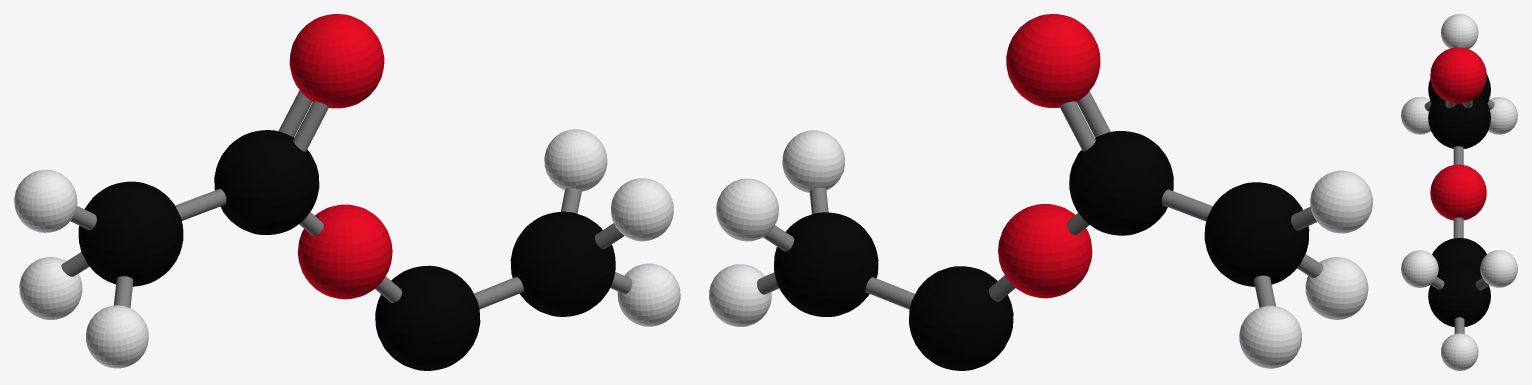
The model's file is CH3COOC2H5.glb.
3 renders of one model, left to right at view 1: azimuth 30°, elevation 25°; view 2: azimuth 150°, elevation 25°; view 3: azimuth 270°, elevation 25°, orthographic. The views are drawn at different scales.
Parts seen in each view (by area): view 1: углерод 1, углерод 1.001, Sphere.005, Sphere, кислород двойной.001, кислород двойной.002, Sphere.001, Sphere.006, Sphere.003, Sphere.007, Sphere.002, Sphere.008 (+5 smaller); view 2: углерод 1, углерод 1.001, Sphere.005, Sphere, кислород двойной.001, кислород двойной.002, Sphere.003, Sphere.007, Sphere.002, Sphere.006, Sphere.001, Sphere.008 (+6 smaller); view 3: Sphere.005, кислород двойной.001, углерод 1, кислород двойной.002, углерод 1.001, Sphere.007, Sphere.008, Sphere.006, Sphere.003, Sphere.001, Sphere.002, Cylinder (+4 smaller).
Boxes of the visible parts, box(x1,y1,x2,y2) form: углерод 1: box(214, 130, 319, 234); углерод 1.001: box(375, 265, 480, 370); Sphere.005: box(510, 211, 615, 316); Sphere: box(78, 181, 183, 286); кислород двойной.001: box(289, 14, 384, 108); кислород двойной.002: box(297, 204, 392, 299); Sphere.001: box(86, 305, 148, 368); Sphere.006: box(611, 178, 673, 241); Sphere.003: box(14, 170, 77, 232); Sphere.007: box(544, 129, 607, 191); Sphere.002: box(19, 257, 82, 319); Sphere.008: box(617, 263, 680, 326); углерод 1: box(1069, 131, 1173, 235); углерод 1.001: box(909, 266, 1013, 370); Sphere.005: box(774, 212, 878, 316); Sphere: box(1204, 182, 1309, 286); кислород двойной.001: box(1006, 14, 1100, 107); кислород двойной.002: box(998, 204, 1092, 298); Sphere.003: box(1310, 170, 1372, 233); Sphere.007: box(716, 178, 778, 241); Sphere.002: box(1239, 306, 1301, 368); Sphere.006: box(782, 130, 844, 192); Sphere.001: box(1305, 257, 1368, 319); Sphere.008: box(709, 264, 771, 326); Sphere.005: box(1428, 265, 1490, 326); кислород двойной.001: box(1430, 47, 1486, 103); углерод 1: box(1428, 94, 1490, 148); кислород двойной.002: box(1430, 164, 1486, 220); углерод 1.001: box(1432, 238, 1486, 272); Sphere.007: box(1480, 250, 1517, 287); Sphere.008: box(1441, 333, 1478, 370); Sphere.006: box(1401, 250, 1438, 287); Sphere.003: box(1441, 14, 1478, 49); Sphere.001: box(1401, 97, 1430, 134); Sphere.002: box(1488, 97, 1517, 134); Cylinder: box(1453, 146, 1463, 238).
Bounding box in the file's own units: 7.21 × 4 × 1.86.
